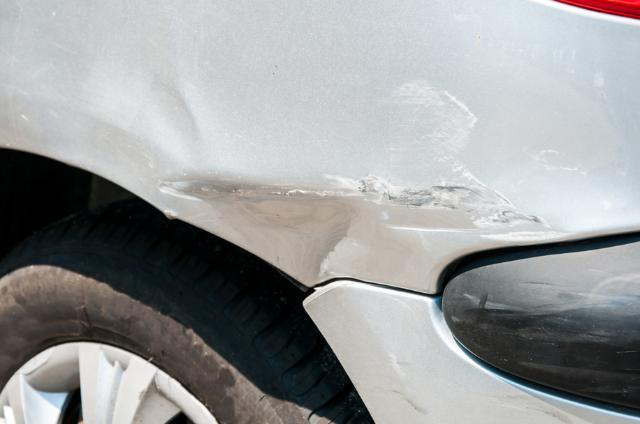Bumper: (331, 377, 640, 424)
Fender: (109, 41, 640, 262)
